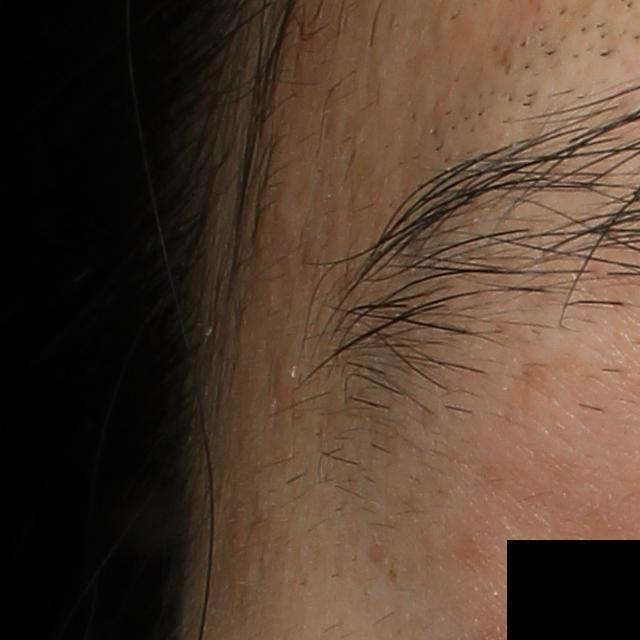melasma: (512, 357, 602, 416), (446, 524, 491, 577), (387, 559, 400, 587)
